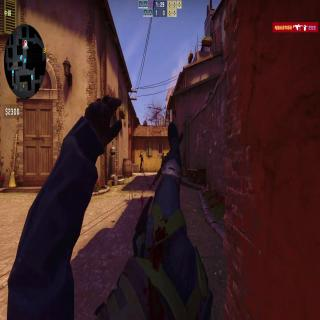T-Body: (139, 151, 144, 174)
T-Head: (140, 151, 142, 154)
